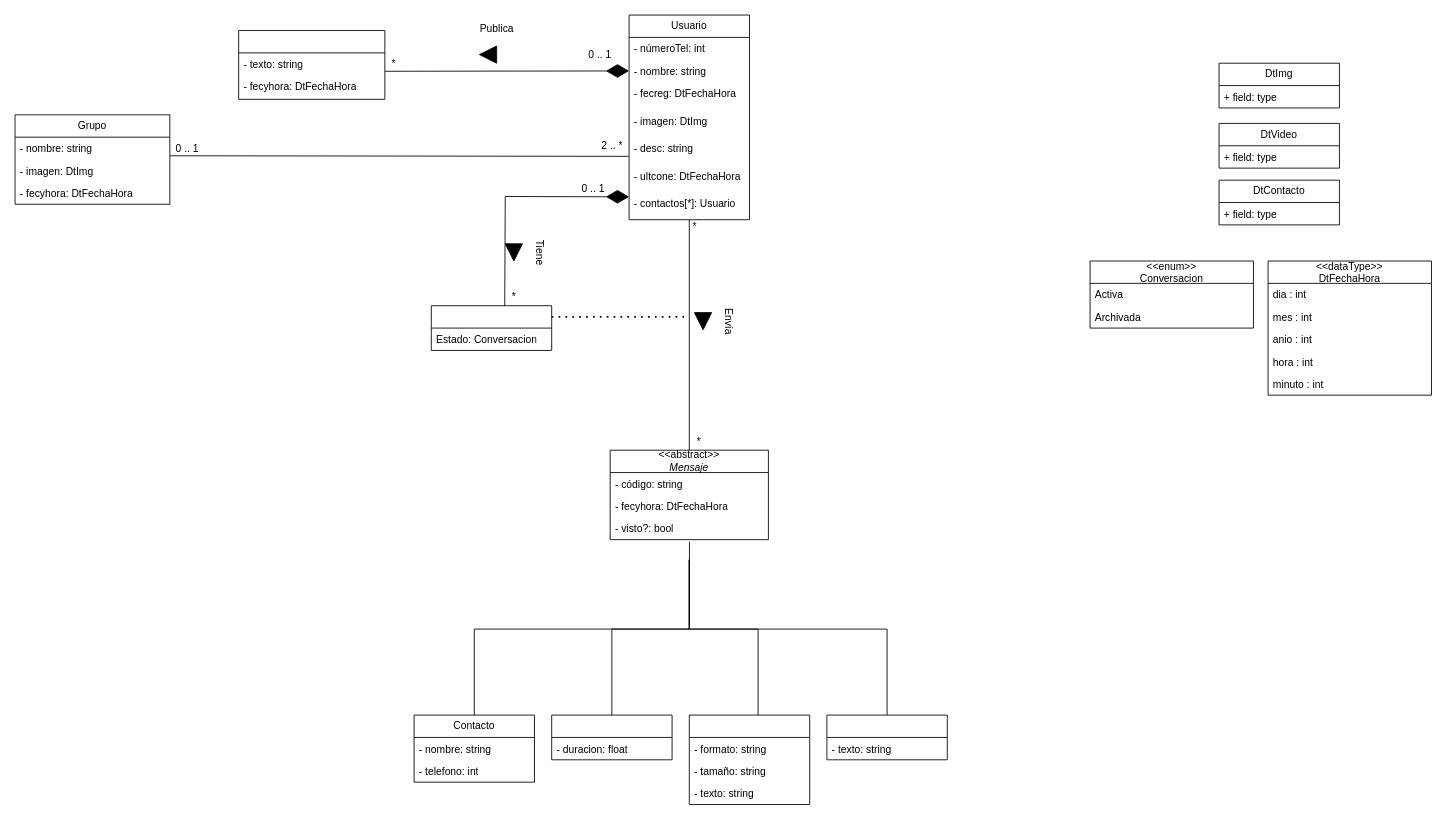
This 1447x822 diagram has some shape labels left out. The shapes that lost their labels are listed below. From the top down, each one's box as (x1, y1, x2, y2) in pixels, then its label:
(238, 30, 385, 99): Estado
(430, 305, 552, 350): Conversación
(551, 714, 672, 760): MultimedaVideo
(826, 714, 947, 760): Simple
(688, 714, 810, 805): MultimediaImagen
